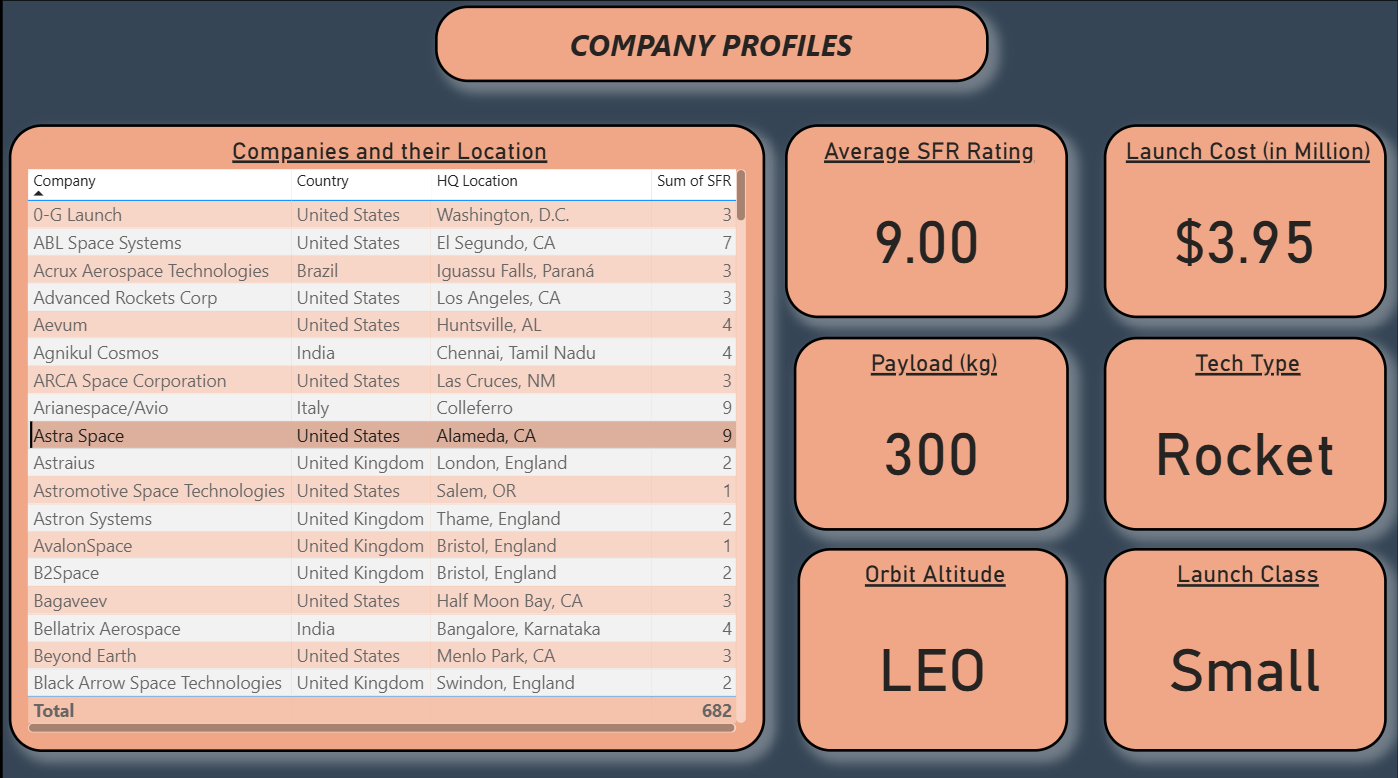

The page's visual inventory and layout, read from the dashboard file:
{"tool":"powerbi","page":{"name":"Company Profiles","canvas":[1280,720],"ordinal":3},"visuals":[{"type":"tableEx","title":"Companies and their Location","fields":{"Values":["Launch SFR.Company","Launch SFR.Country","Launch SFR.HQ Location","Sum(Launch SFR.SFR)"]},"box":[13,118.7,686.8,569.9],"z":0},{"type":"card","title":"Average SFR Rating","fields":{"Values":["Avg(Launch SFR.SFR)"]},"box":[717.1,118.7,256.8,176],"z":1000},{"type":"card","title":"Launch Cost (in Million)","fields":{"Values":["Sum(Launch SFR.Launch Cost ($M))"]},"box":[1005.6,118.7,256.8,176],"z":2000},{"type":"card","title":"Tech Type","fields":{"Values":["Min(Launch SFR.Tech Type)"]},"box":[1005.6,312.1,256.8,176],"z":3000},{"type":"card","title":"Payload (kg)","fields":{"Values":["Sum(Launch SFR.Payload (kg))"]},"box":[724.3,312.1,249.6,176],"z":4000},{"type":"card","title":"Orbit Altitude","fields":{"Values":["Min(Launch SFR.Orbit Altitude)"]},"box":[728.6,504,245.3,184.7],"z":5000},{"type":"card","title":"Launch Class","fields":{"Values":["Min(Launch SFR.Launch Class)"]},"box":[1005.6,504,256.8,184.7],"z":6000},{"type":"textbox","box":[399.6,11.5,502.1,69.3],"z":7000}]}

Visuals, with their boxes in screenshot pixels (x1, y1, x2, y2), scaled from the page's 1280x720 canvas onto the 1398x778 screenshot:
"Companies and their Location" tableEx: region(14, 128, 764, 744)
"Average SFR Rating" card: region(783, 128, 1064, 318)
"Launch Cost (in Million)" card: region(1098, 128, 1379, 318)
"Tech Type" card: region(1098, 337, 1379, 527)
"Payload (kg)" card: region(791, 337, 1064, 527)
"Orbit Altitude" card: region(796, 545, 1064, 744)
"Launch Class" card: region(1098, 545, 1379, 744)
textbox: region(436, 12, 985, 87)
